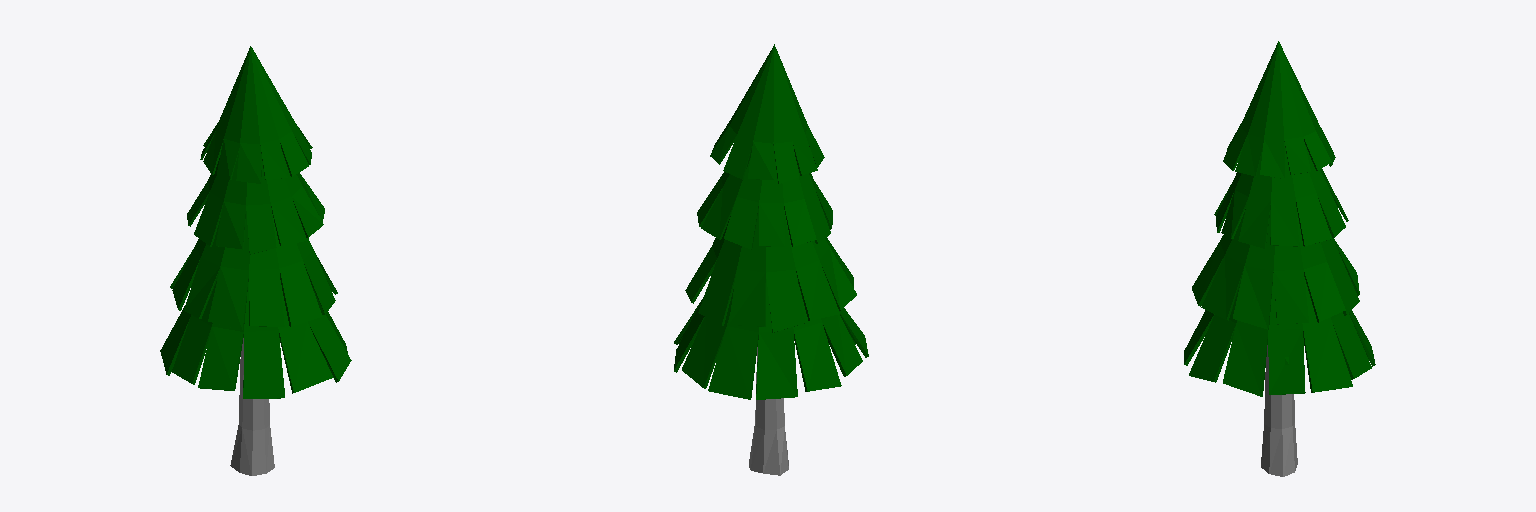
The picture shows the model from 3 angles: view 1: azimuth 30°, elevation 25°; view 2: azimuth 150°, elevation 25°; view 3: azimuth 270°, elevation 25°; orthographic projection.
Parts seen in each view (by area): view 1: NaturePack_Tree2, troncoPino; view 2: NaturePack_Tree2, troncoPino; view 3: NaturePack_Tree2, troncoPino.
Part boxes in pixels (left/top/right/bottom): NaturePack_Tree2: left=160, top=46, right=351, bottom=398; troncoPino: left=230, top=338, right=274, bottom=475; NaturePack_Tree2: left=674, top=44, right=868, bottom=399; troncoPino: left=749, top=347, right=788, bottom=475; NaturePack_Tree2: left=1184, top=41, right=1375, bottom=396; troncoPino: left=1261, top=345, right=1297, bottom=476.
Bounding box in the file's own units: 6.55 × 16.29 × 6.65.
2 materials, 1 textured.